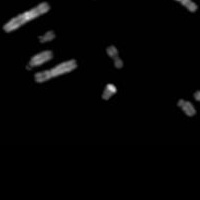chromosome: (1, 2, 50, 33), (34, 58, 77, 83), (24, 48, 53, 71), (106, 44, 124, 71), (159, 0, 197, 12), (177, 98, 196, 117), (101, 83, 116, 101), (38, 31, 56, 42), (195, 90, 200, 101)
